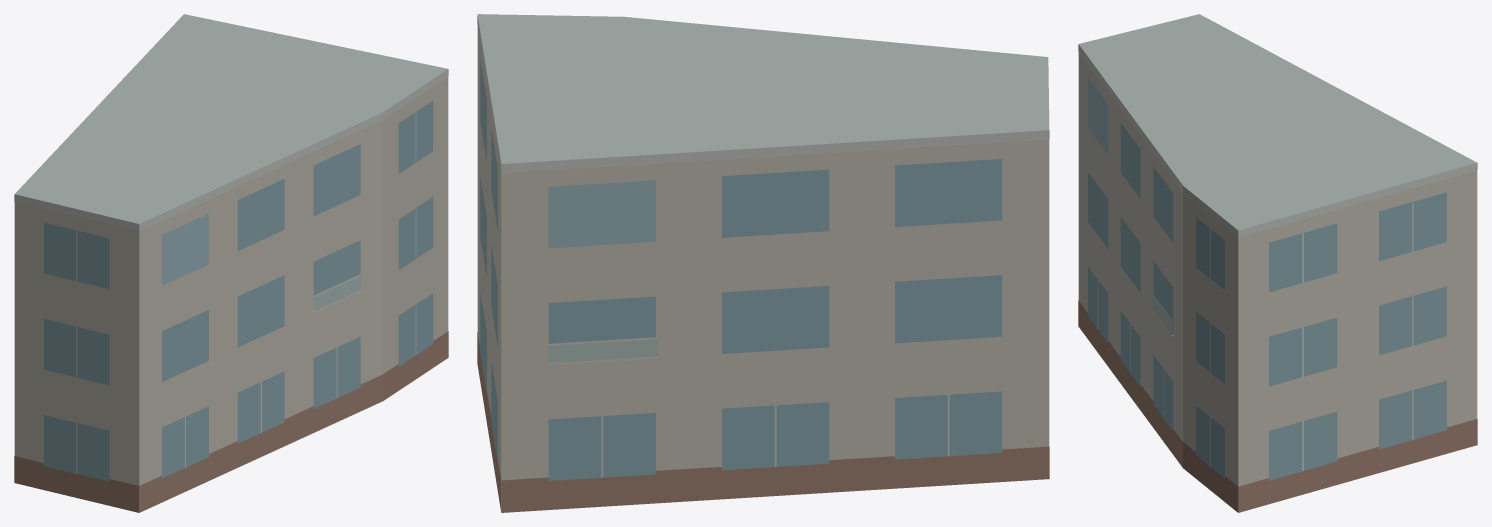
Rendered from survey-upis-32628460.glb.
The picture shows the model from 3 angles, left to right: view 1: azimuth 30°, elevation 25°; view 2: azimuth 150°, elevation 25°; view 3: azimuth 270°, elevation 25°; orthographic projection. The views are drawn at different scales.
Visible parts, largest first — view 1: survey-upis-32628460.tmp; view 2: survey-upis-32628460.tmp; view 3: survey-upis-32628460.tmp.
Part boxes in pixels (box(x1,y1,x2,y2)): survey-upis-32628460.tmp: box(14, 14, 448, 512); survey-upis-32628460.tmp: box(477, 14, 1049, 512); survey-upis-32628460.tmp: box(1078, 14, 1477, 512).
Size of the model in its own units: 15.3 by 9.3 by 11.92.
